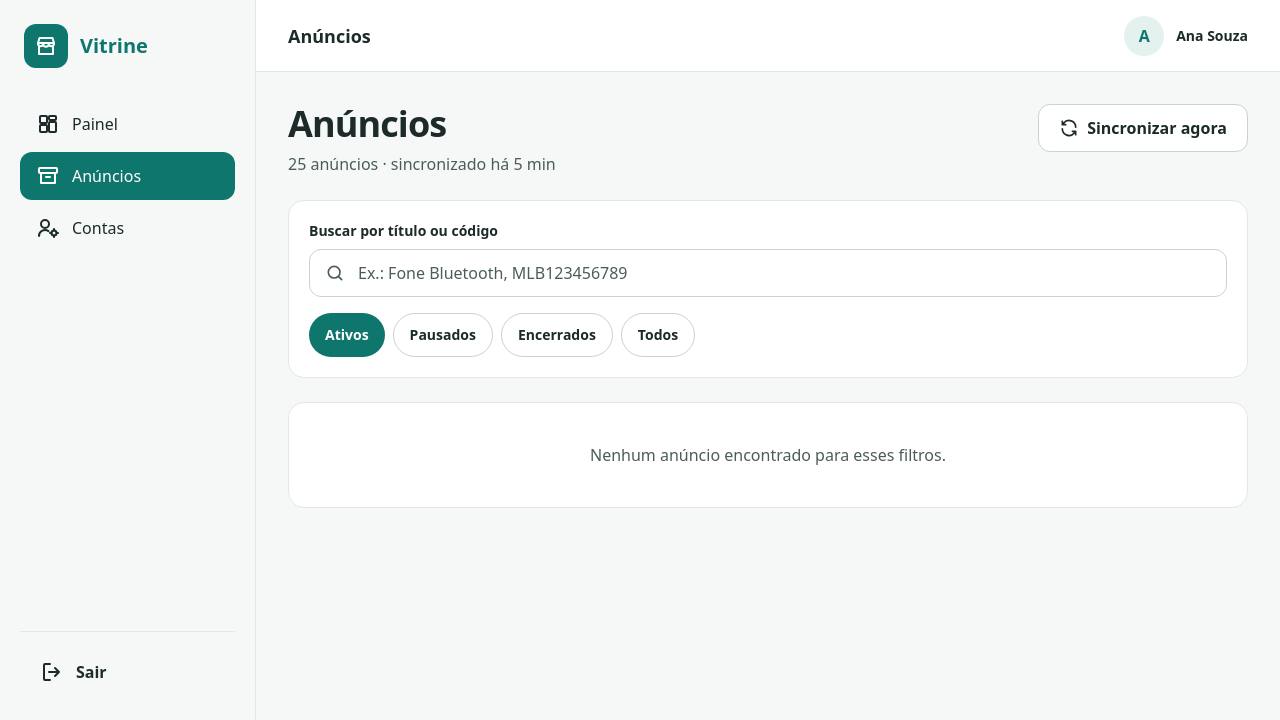
it: SPEC-0025:UT-01 — mensagens de erro por code › SPEC-0025:UT-01 — Sincronizar agora com 429 SYNC_TOO_SOON mostra a mensagem certa
The image size is (1280, 720).
# Quando o usuário clica em "Sincronizar agora"
Click the button "Sincronizar agora": (1143, 128) [1038,104,1248,152]
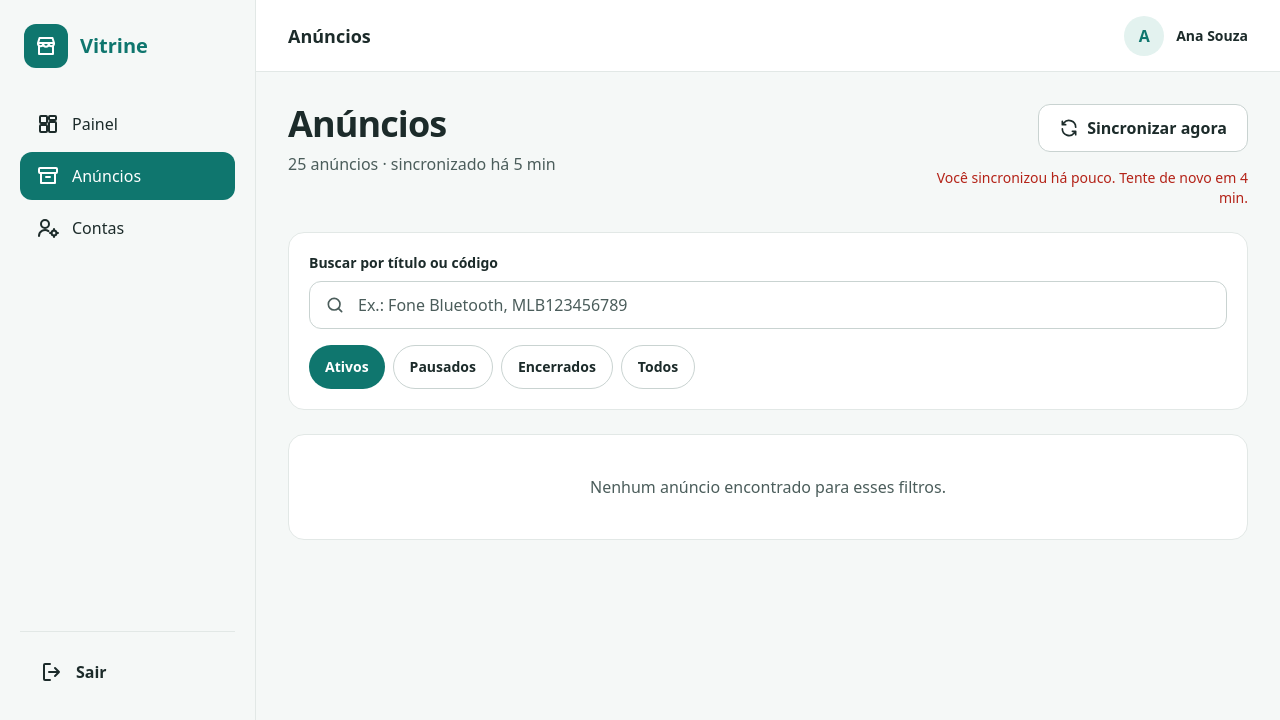
Now the text "Você sincronizou há pouco. Tente de novo em 4 min." is shown, box [928,168,1248,208]
